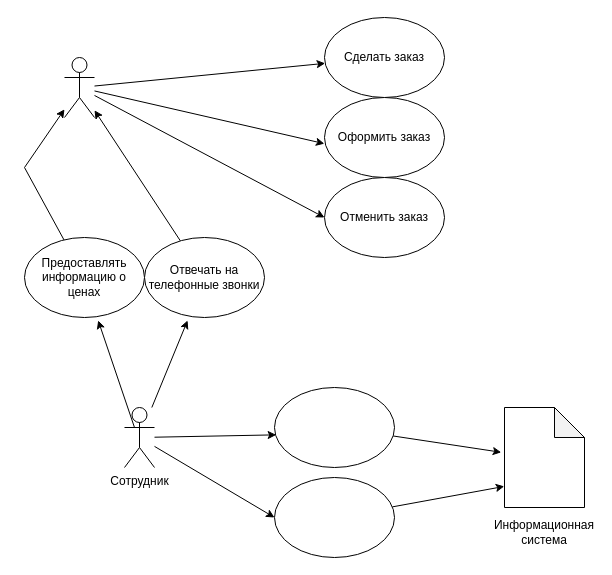
This 612x575 diagram has some shape labels left out. The shapes that lost their labels are listed below. From the top down, each one's centre as x and y in pixels, then its label:
the point at 79,87: Клиент
the point at 334,427: Сохранить заказ в БД
the point at 334,517: Проверить наличие клиента
